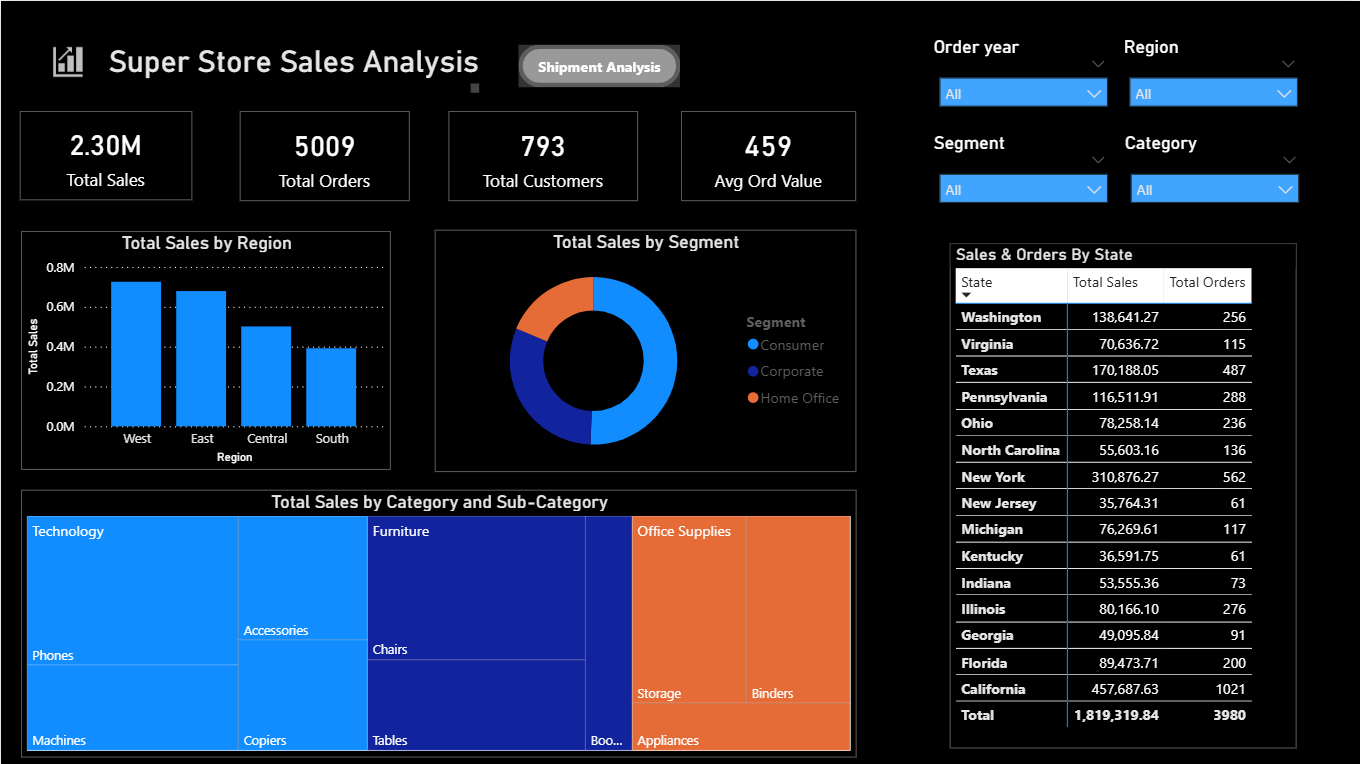

What the dashboard file says about the page in this screenshot:
{"tool":"powerbi","page":{"name":"Store Analysis","canvas":[1280,720],"ordinal":0},"visuals":[{"type":"card","fields":{"Values":["Sample - Superstore.Total Sales"]},"box":[17.5,103.8,162.5,83.8],"z":0},{"type":"card","fields":{"Values":["Sample - Superstore.Total Orders"]},"box":[225,103.3,160,85],"z":1000},{"type":"card","fields":{"Values":["Sample - Superstore.Avg Ord Value"]},"box":[640,103.3,165,85],"z":2000},{"type":"card","fields":{"Values":["Sample - Superstore.Total Customers"]},"box":[421.7,103.3,178.3,85],"z":3000},{"type":"clusteredColumnChart","fields":{"Category":["Sample - Superstore.Region"],"Y":["Sample - Superstore.Total Sales"]},"box":[18.3,216.7,348.3,225],"z":4000},{"type":"donutChart","fields":{"Category":["Sample - Superstore.Segment"],"Y":["Sample - Superstore.Total Sales"]},"box":[408.3,215,396.7,228.3],"z":5000},{"type":"treemap","fields":{"Values":["Sample - Superstore.Total Sales"],"Group":["Sample - Superstore.Category"],"Details":["Sample - Superstore.Sub-Category"]},"box":[18.3,460,786.7,251.7],"z":6000},{"type":"pivotTable","title":"Sales & Orders By State","fields":{"Rows":["Sample - Superstore.State"],"Values":["Sample - Superstore.Total Sales","Sample - Superstore.Total Orders"]},"box":[893.3,228.3,326.7,475],"z":7000},{"type":"textbox","title":"Super Store Sales Analysis","box":[96.9,40.4,358.6,51.4],"z":8000,"group":"g1"},{"type":"slicer","title":"Order year","fields":{"Values":["Sample - Superstore.Ship Mode"]},"box":[873.2,33.1,178.6,80],"z":8000},{"type":"slicer","title":"Region","fields":{"Values":["Sample - Superstore.Region"]},"box":[1051.8,33.1,178.6,80],"z":9000},{"type":"slicer","title":"Segment","fields":{"Values":["Sample - Superstore.Segment"]},"box":[873.2,123.1,178.6,80],"z":10000},{"type":"slicer","title":"Category","fields":{"Values":["Sample - Superstore.Category"]},"box":[1053.2,123.1,178.6,80],"z":11000},{"type":"group","id":"g1","title":"Group 1","box":[39.3,32,415,60],"z":12000},{"type":"image","box":[39.3,32,48.6,51.4],"z":13000,"group":"g1"},{"type":"actionButton","box":[473.4,38.4,152.3,39.8],"z":13000}]}

Visuals, with their boxes in screenshot pixels (x1, y1, x2, y2), scaled from the page's 1280x720 canvas onto the 1360x764 screenshot:
card - Sample - Superstore.Total Sales: x1=19, y1=110, x2=191, y2=199
card - Sample - Superstore.Total Orders: x1=239, y1=110, x2=409, y2=200
card - Sample - Superstore.Avg Ord Value: x1=680, y1=110, x2=855, y2=200
card - Sample - Superstore.Total Customers: x1=448, y1=110, x2=638, y2=200
clusteredColumnChart - Sample - Superstore.Region x Sample - Superstore.Total Sales: x1=19, y1=230, x2=390, y2=469
donutChart - Sample - Superstore.Segment x Sample - Superstore.Total Sales: x1=434, y1=228, x2=855, y2=470
treemap - Sample - Superstore.Total Sales x Sample - Superstore.Category: x1=19, y1=488, x2=855, y2=755
"Sales & Orders By State" pivotTable: x1=949, y1=242, x2=1296, y2=746
"Super Store Sales Analysis" textbox: x1=103, y1=43, x2=484, y2=97
"Order year" slicer: x1=928, y1=35, x2=1118, y2=120
"Region" slicer: x1=1118, y1=35, x2=1307, y2=120
"Segment" slicer: x1=928, y1=131, x2=1118, y2=216
"Category" slicer: x1=1119, y1=131, x2=1309, y2=216
"Group 1" group: x1=42, y1=34, x2=483, y2=98
image: x1=42, y1=34, x2=93, y2=88
actionButton: x1=503, y1=41, x2=665, y2=83
